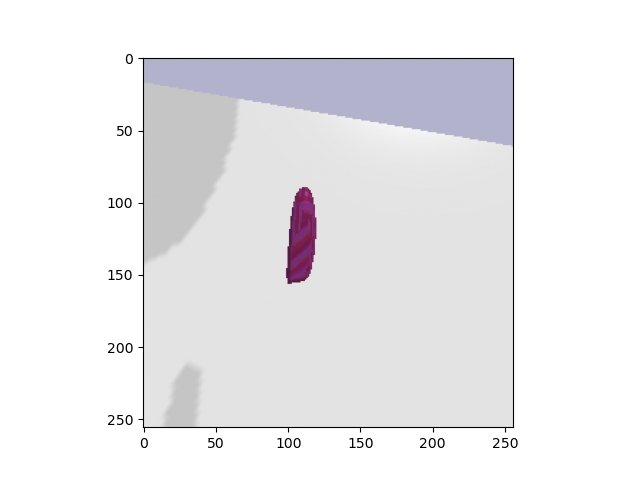v249b387_105: (280, 183, 326, 290)
